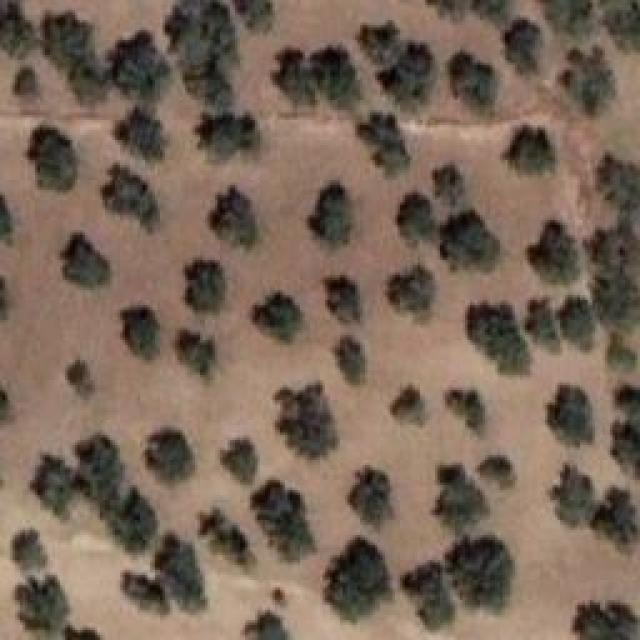Tree: (325, 537, 390, 622), (445, 537, 514, 612), (253, 480, 316, 560), (463, 300, 530, 372), (275, 385, 339, 459), (165, 0, 235, 66), (110, 30, 171, 105), (155, 533, 206, 611), (102, 165, 160, 233), (433, 465, 489, 535), (560, 48, 616, 116), (403, 563, 457, 631), (440, 210, 498, 271), (528, 220, 582, 283), (358, 113, 412, 175), (28, 125, 78, 191), (310, 48, 361, 111), (587, 270, 640, 330), (75, 433, 122, 500), (113, 108, 172, 161), (103, 490, 156, 549), (200, 510, 255, 566), (15, 575, 69, 631), (385, 50, 433, 113), (550, 465, 598, 527), (547, 385, 595, 447), (590, 488, 638, 548), (308, 182, 352, 247), (200, 115, 261, 161), (30, 455, 73, 520), (583, 215, 640, 264), (210, 186, 256, 246), (45, 13, 95, 68), (348, 465, 393, 526), (448, 55, 493, 116), (388, 265, 437, 321), (268, 45, 315, 103), (63, 232, 112, 287), (185, 60, 236, 111), (145, 428, 194, 481), (253, 293, 303, 344), (503, 125, 556, 173), (573, 605, 639, 640), (597, 152, 640, 205), (357, 18, 404, 65), (545, 0, 595, 44), (185, 260, 226, 313), (505, 18, 543, 73), (398, 194, 438, 244), (0, 0, 34, 58), (558, 295, 593, 351), (603, 0, 640, 51), (608, 420, 640, 478), (525, 298, 559, 352), (122, 572, 166, 613), (123, 310, 159, 360), (328, 275, 363, 323), (220, 438, 255, 484), (445, 390, 485, 430), (180, 330, 214, 376), (335, 338, 368, 385), (13, 530, 49, 573), (435, 165, 470, 209), (390, 385, 425, 425), (245, 612, 293, 640), (477, 458, 515, 490), (233, 0, 270, 31), (65, 360, 90, 397), (13, 67, 38, 96), (615, 384, 639, 414)
